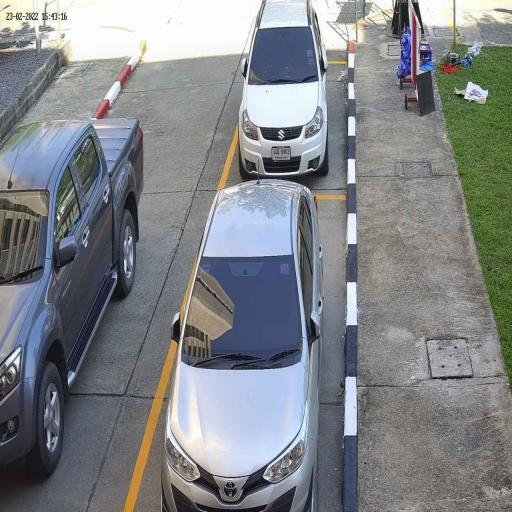car: (160, 176, 325, 512), (0, 117, 146, 477), (237, 0, 330, 178)
